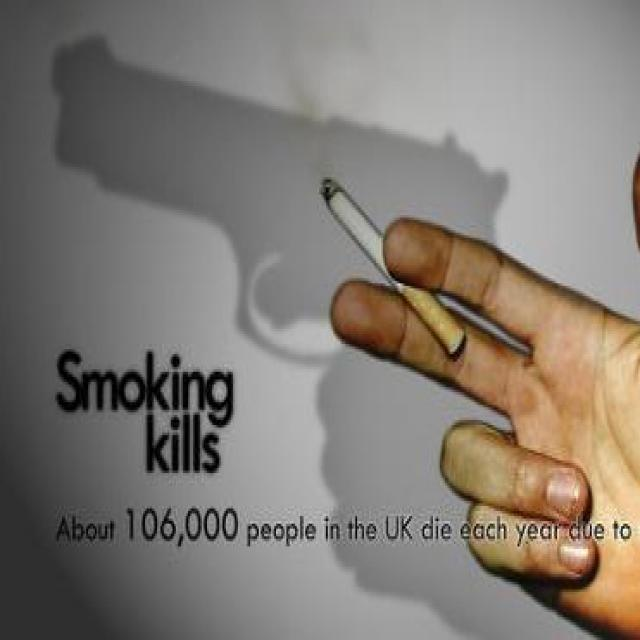cigarette: (307, 159, 379, 261)
